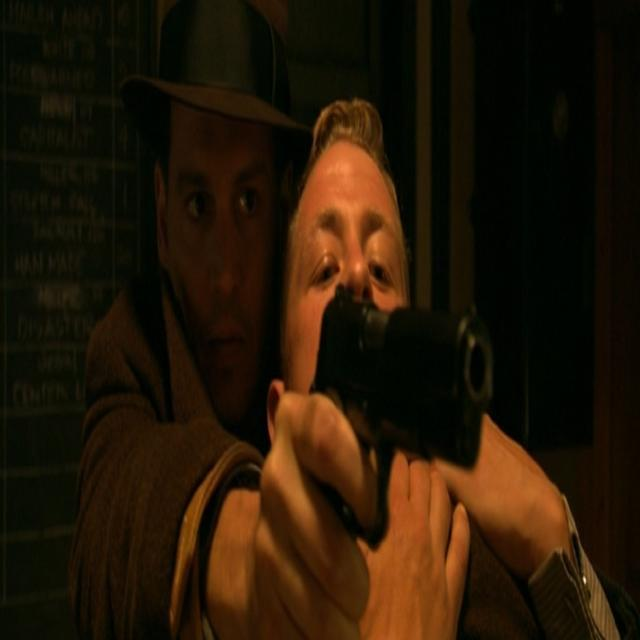gun-knife-thesis - v11 Yolov5 augmented: (265, 254, 530, 606)
